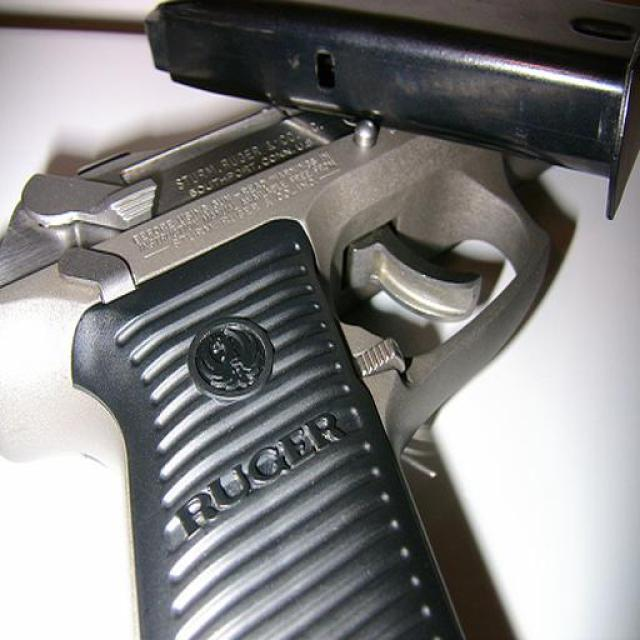pistol: (1, 71, 633, 640)
